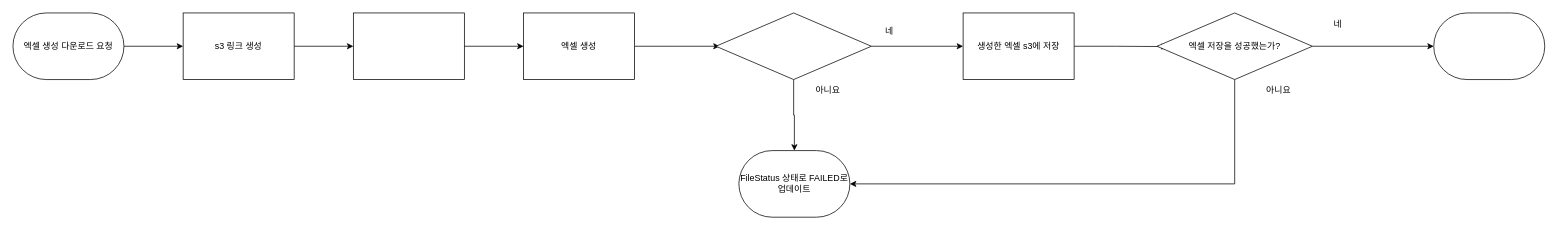
Some shapes in this 1558 by 230 pixel diagram are drawn without their labels. The shapes that lost their labels are listed below. From the top down, each one's box as (x1, y1, x2, y2) in pixels, then its label:
(353, 12, 464, 80): FileStatus 저장 (fileName = s3 링크, status = IN_PROFRESS)
(715, 12, 871, 80): 엑셀 생성을 성공했는가?
(1433, 12, 1545, 80): FileStatus 상태로 COMPLETED로 업데이트
